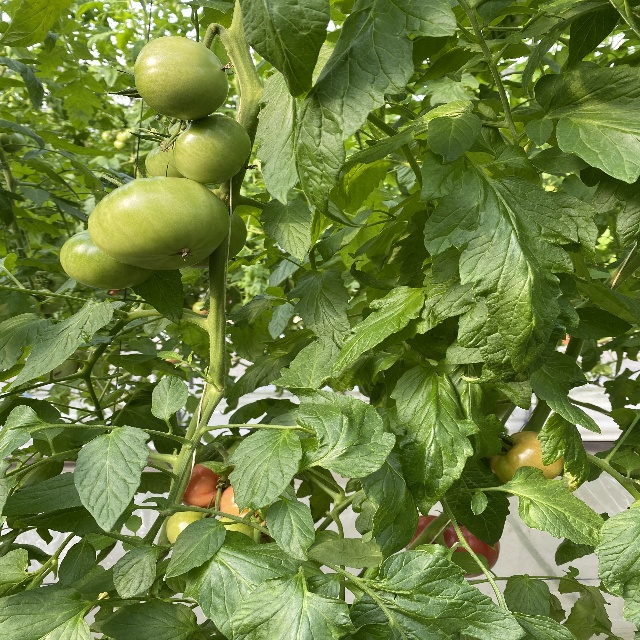b_green: (87, 175, 230, 270), (134, 35, 230, 120), (60, 229, 158, 290), (174, 114, 251, 185), (186, 208, 247, 269), (145, 120, 194, 178)
